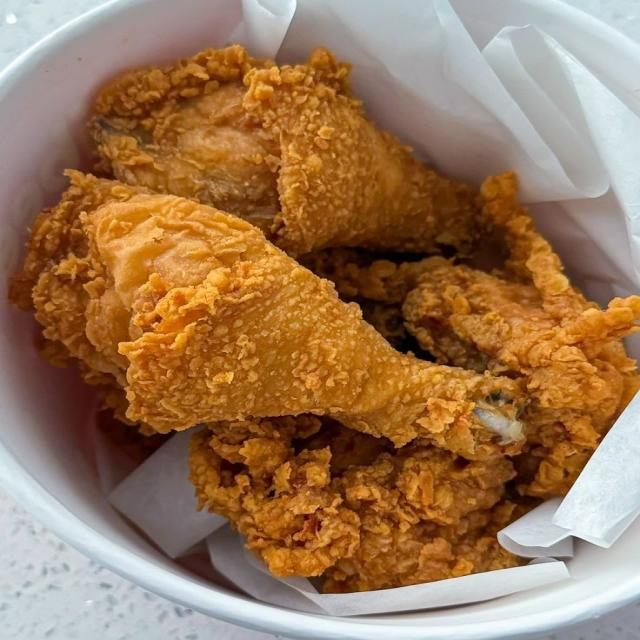Chicken -Fried Chicken-: (12, 175, 541, 458), (70, 47, 529, 253)
